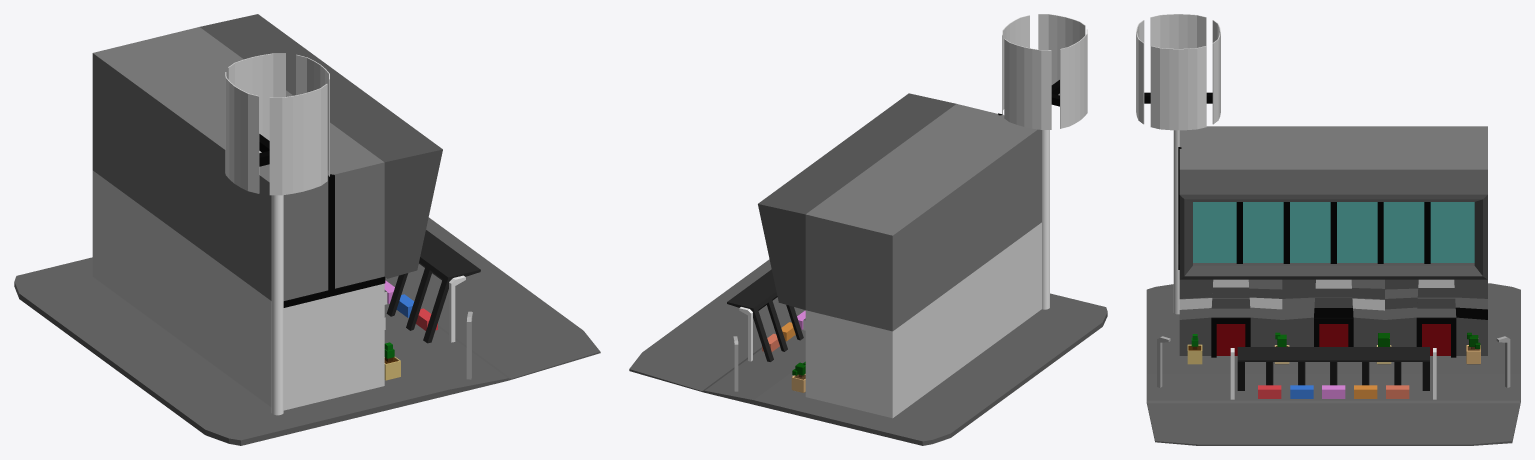
File: terminalV1.fbx
3 renders of one model, left to right at view 1: azimuth 30°, elevation 25°; view 2: azimuth 150°, elevation 25°; view 3: azimuth 270°, elevation 25°, orthographic. The views are drawn at different scales.
Parts seen in each view (by area): view 1: Cube, Plane, Plane.001, Plane.002, Cube.003, Cylinder; view 2: Cube, Plane, Plane.001, Plane.002, Cube.003, Cylinder; view 3: Cube, Plane, Plane.002, Cube.003, Plane.001, Cylinder, Cube.002, Cube.004, plant2, plant1.
Boxes of the visible parts, <box> form: Cube: <box>92,14,442,410</box>; Plane: <box>14,217,600,445</box>; Plane.001: <box>228,53,327,195</box>; Plane.002: <box>225,54,329,193</box>; Cube.003: <box>386,230,480,343</box>; Cylinder: <box>271,195,283,415</box>; Cube: <box>758,93,1041,418</box>; Plane: <box>629,259,1107,445</box>; Plane.001: <box>1004,14,1085,129</box>; Plane.002: <box>1002,15,1087,128</box>; Cube.003: <box>727,269,803,361</box>; Cylinder: <box>1042,130,1049,309</box>; Cube: <box>1178,126,1487,357</box>; Plane: <box>1146,283,1520,445</box>; Plane.002: <box>1150,14,1206,130</box>; Cube.003: <box>1237,347,1429,390</box>; Plane.001: <box>1136,20,1220,124</box>; Cylinder: <box>1173,130,1179,314</box>; Cube.002: <box>1157,336,1510,387</box>; Cube.004: <box>1230,348,1436,399</box>; plant2: <box>1466,332,1480,364</box>; plant1: <box>1187,334,1202,364</box>.
Size of the model in its own units: 728 by 614 by 749.
